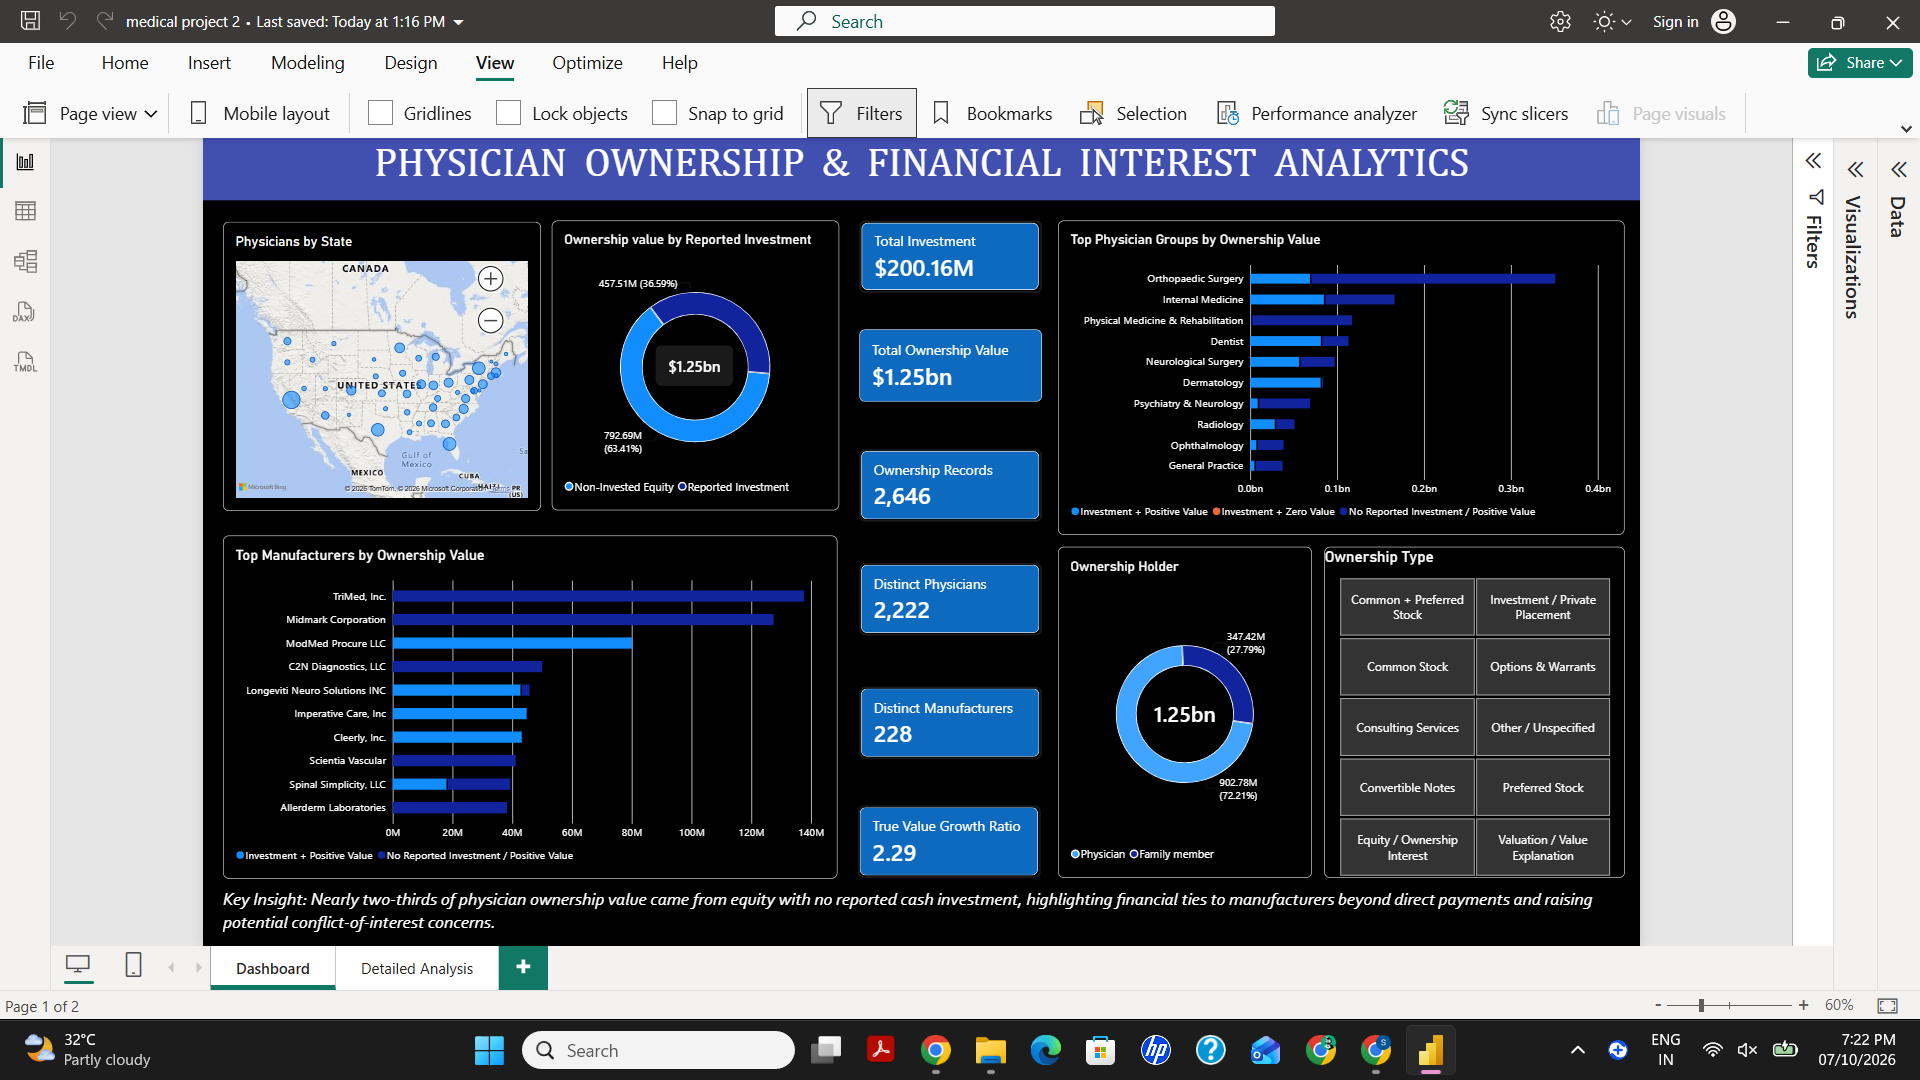

What the dashboard file says about the page in this screenshot:
{"tool":"powerbi","page":{"name":"Dashboard","canvas":[1920,1080],"ordinal":0},"visuals":[{"type":"cardVisual","fields":{"Data":["Ownership.Total Amount Invested"]},"box":[875.9,110.4,244,97],"z":0},{"type":"donutChart","title":"Ownership value by Reported Investment","fields":{"Y":["Ownership.Value from Non-Invested Equity","Ownership.Real Investment Value"]},"box":[465.1,110.4,383.6,387.3],"z":1000},{"type":"cardVisual","fields":{"Data":["Ownership.Distinct Manufacturers (Ownership)"]},"box":[875.9,732.9,244,97],"z":2000},{"type":"cardVisual","fields":{"Data":["Ownership.True Value Growth Ratio"]},"box":[875.4,891,244,97],"z":3000},{"type":"cardVisual","fields":{"Data":["Ownership.Ownership Record Count"]},"box":[875.9,416.2,244,97],"z":4000},{"type":"cardVisual","fields":{"Data":["Ownership.Distinct Physicians (ownership)"]},"box":[875.9,568.2,244,97],"z":5000},{"type":"map","title":"Physicians by State","fields":{"Category":["Ownership.Recipient_State"],"Size":["Ownership.Distinct Physicians (ownership)"]},"box":[27.3,111.1,425,386],"z":6000},{"type":"barChart","title":"Top Physician Groups by Ownership Value","fields":{"Category":["Ownership.Physician_Group"],"Series":["Ownership.Financial Status"],"Y":["Ownership.Ownership_value"]},"box":[1141.9,110.4,756.4,419.8],"z":7000},{"type":"barChart","title":"Top Manufacturers by Ownership Value","fields":{"Category":["Ownership.Applicable_Manufacturer_or_Applicable_GPO_Making_Payment_Name"],"Series":["Ownership.Financial Status"],"Y":["Ownership.Ownership_value"]},"box":[27.3,530.3,820.8,458.2],"z":8000},{"type":"cardVisual","fields":{"Data":["Ownership.Ownership_value"]},"box":[875.9,255.2,244,97],"z":9000},{"type":"slicer","title":"Ownership Type","fields":{"Values":["Ownership.Ownership Type"]},"box":[1497.3,545.9,401.6,442.6],"z":10000},{"type":"cardVisual","fields":{"Data":["Ownership.Ownership_value"]},"box":[604.4,276.9,105,54.3],"z":11000},{"type":"donutChart","title":"Ownership Holder","fields":{"Category":["Ownership.Interest_Held_by"],"Y":["Ownership.Ownership_value"]},"box":[1142.5,545.9,339.2,442.6],"z":12000},{"type":"textbox","box":[0,0,1920.1,83.2],"z":13000},{"type":"textbox","box":[27.1,1002.6,1871.2,61.5],"z":14000}]}

Visuals, with their boxes on the page's 1920x1080 design canvas (x1, y1, x2, y2). These are canvas units, not pixel positions in the 1920x1080 screenshot, which may show the page scaled, cropped or inside an application window:
cardVisual - Ownership.Total Amount Invested: l=876, t=110, r=1120, b=207
"Ownership value by Reported Investment" donutChart: l=465, t=110, r=849, b=498
cardVisual - Ownership.Distinct Manufacturers (Ownership): l=876, t=733, r=1120, b=830
cardVisual - Ownership.True Value Growth Ratio: l=875, t=891, r=1119, b=988
cardVisual - Ownership.Ownership Record Count: l=876, t=416, r=1120, b=513
cardVisual - Ownership.Distinct Physicians (ownership): l=876, t=568, r=1120, b=665
"Physicians by State" map: l=27, t=111, r=452, b=497
"Top Physician Groups by Ownership Value" barChart: l=1142, t=110, r=1898, b=530
"Top Manufacturers by Ownership Value" barChart: l=27, t=530, r=848, b=988
cardVisual - Ownership.Ownership_value: l=876, t=255, r=1120, b=352
"Ownership Type" slicer: l=1497, t=546, r=1899, b=988
cardVisual - Ownership.Ownership_value: l=604, t=277, r=709, b=331
"Ownership Holder" donutChart: l=1142, t=546, r=1482, b=988
textbox: l=0, t=0, r=1920, b=83
textbox: l=27, t=1003, r=1898, b=1064
